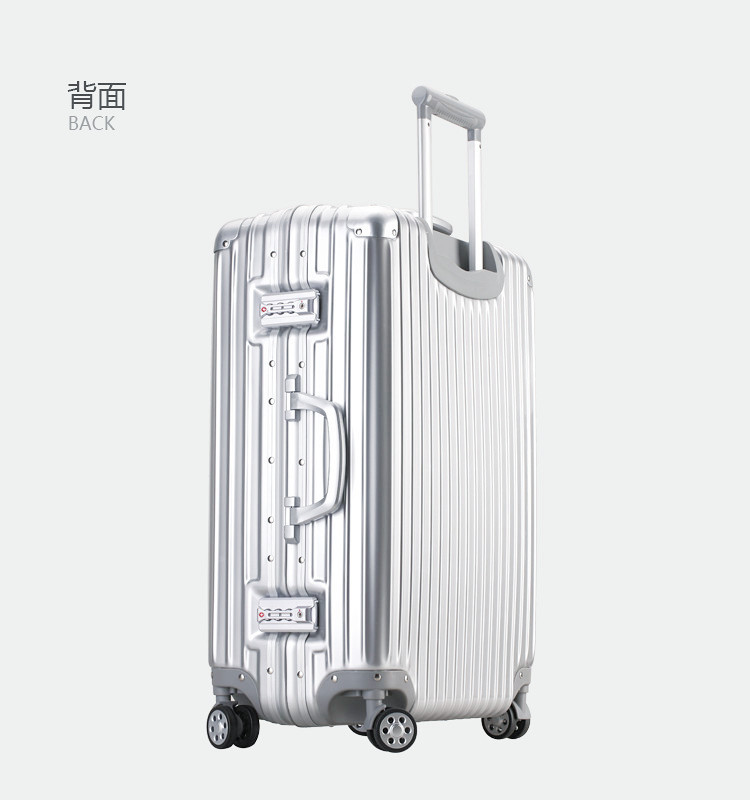luggage: (205, 83, 540, 753)
